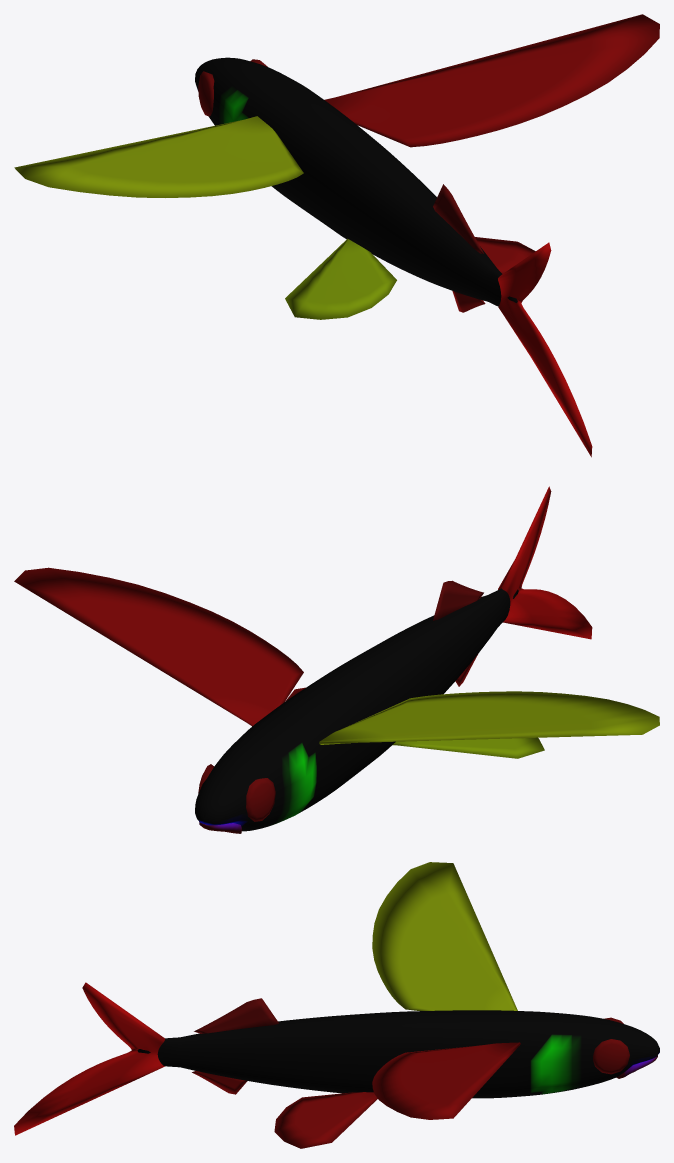
File: flying_fish_lo.glb
3 views of the same model, one above another, from view 1: azimuth 30°, elevation 25°; view 2: azimuth 150°, elevation 25°; view 3: azimuth 270°, elevation 25° (orthographic). The views are drawn at different scales.
Visible parts, largest first — view 1: flying_fish_lo; view 2: flying_fish_lo; view 3: flying_fish_lo.
Part boxes in pixels (box(x1,y1,x2,y2)): flying_fish_lo: box(14, 14, 659, 457); flying_fish_lo: box(14, 486, 659, 833); flying_fish_lo: box(14, 862, 659, 1148).
Size of the model in its own units: 0.2829 by 0.0786 by 0.2995.
